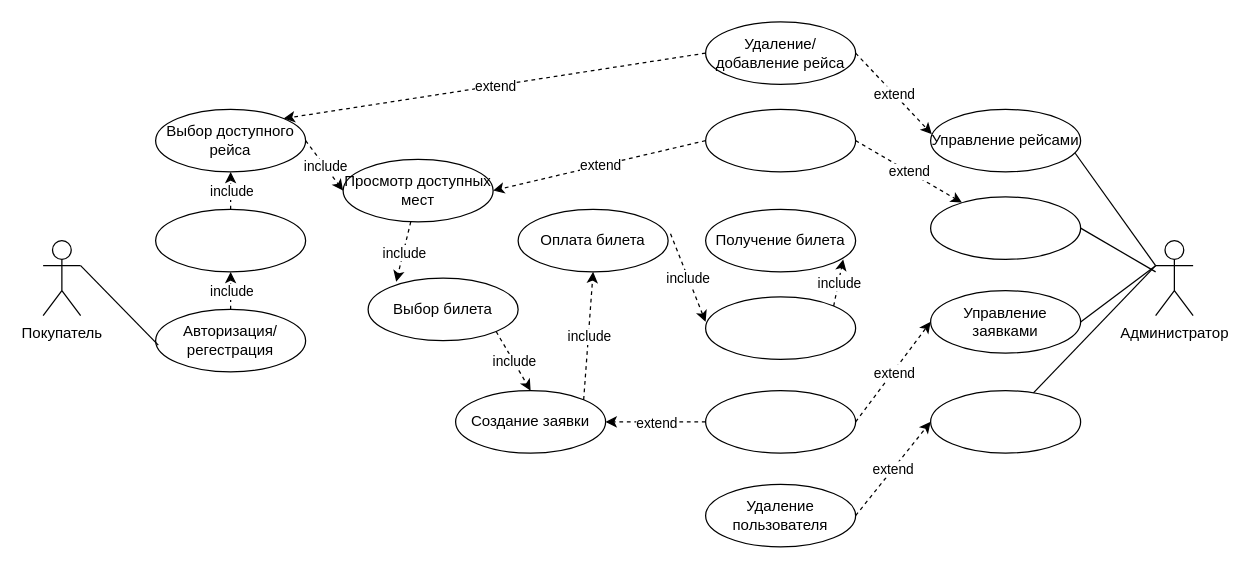
The diagram is 1250 pixels wide and 569 high, and some of its shapes have lost their labels. Each missing label, with the centre of its shape:
"Выбор эконом/бизнес" goes at [230,240].
"Обработка заявок" goes at [780,421].
"Способ оплаты" goes at [780,327].
"Удаление/добавление мест" goes at [780,140].
"Управление местами" goes at [1005,227].
"Управление пользователями" goes at [1005,421].
